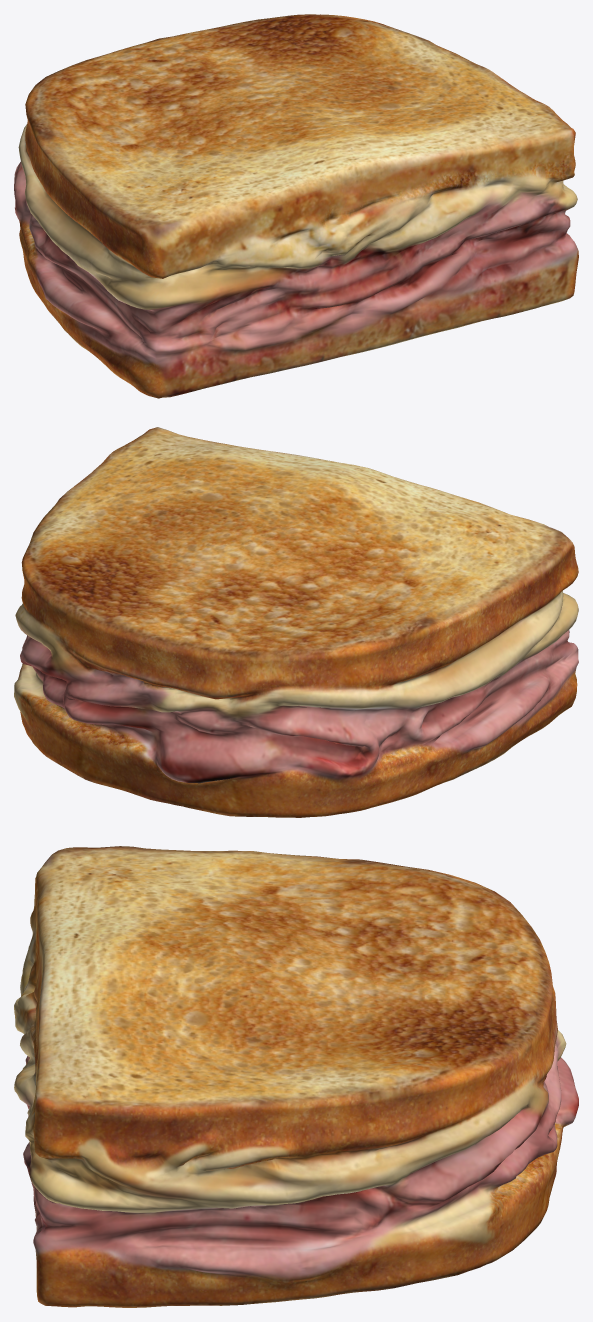
The model's file is ham sandwich.glb.
3 views of the same model, one above another, from view 1: azimuth 30°, elevation 25°; view 2: azimuth 150°, elevation 25°; view 3: azimuth 270°, elevation 25° (orthographic). The views are drawn at different scales.
Parts seen in each view (by area): view 1: 13931_Reuben_Sandwich_on_Plate_v2_L1; view 2: 13931_Reuben_Sandwich_on_Plate_v2_L1; view 3: 13931_Reuben_Sandwich_on_Plate_v2_L1.
Boxes of the visible parts, x1,y1,x2,y2 form: 13931_Reuben_Sandwich_on_Plate_v2_L1: (14, 14, 578, 398); 13931_Reuben_Sandwich_on_Plate_v2_L1: (14, 427, 578, 817); 13931_Reuben_Sandwich_on_Plate_v2_L1: (14, 846, 578, 1307).
Size of the model in its own units: 9.8 by 3.92 by 8.54.
Materials: 1 (1 with a texture image).
